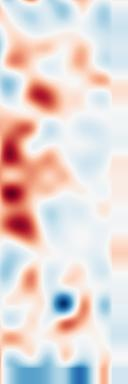filament: (0, 113, 49, 249)
